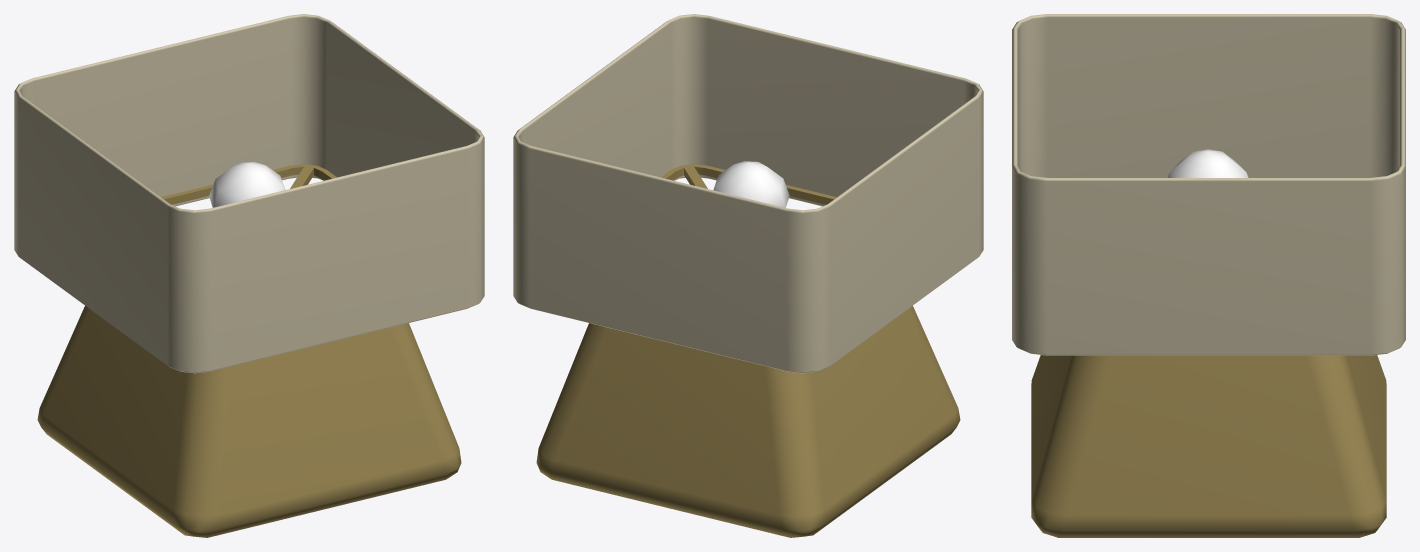
Rendered from Lamp.glb.
3 renders of one model, left to right at view 1: azimuth 30°, elevation 25°; view 2: azimuth 150°, elevation 25°; view 3: azimuth 270°, elevation 25°, orthographic. The views are drawn at different scales.
Visible parts, largest first — view 1: Lamp; view 2: Lamp; view 3: Lamp.
Boxes of the visible parts, x1,y1,x2,y2 form: Lamp: (14,14,484,537); Lamp: (513,14,983,537); Lamp: (1012,14,1405,537).
Bounding box in the file's own units: 0.3162 × 0.3321 × 0.3162.
1 material, 1 textured.
